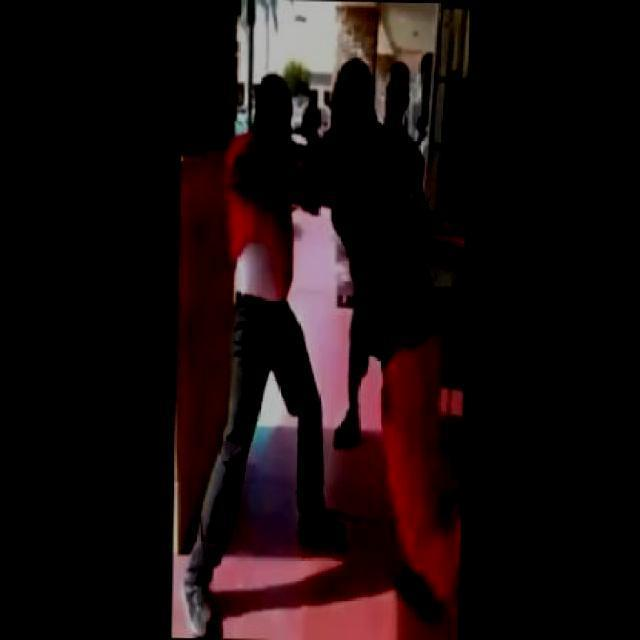fight: (183, 57, 449, 608)
